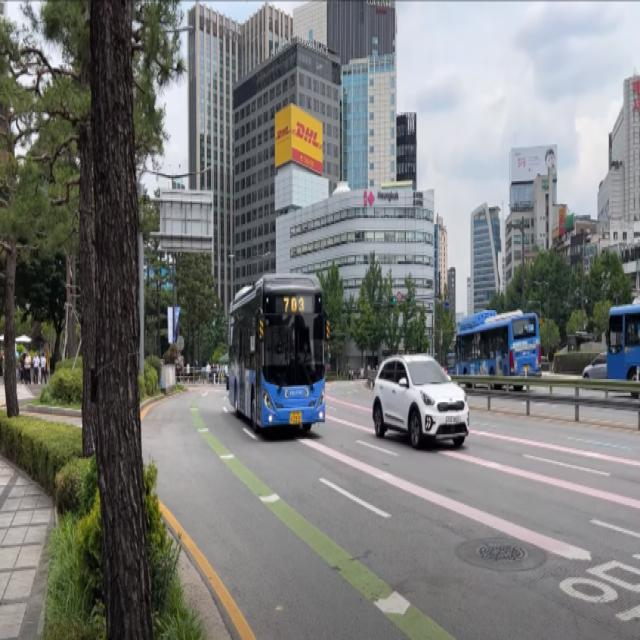bus-number: (282, 294, 306, 314)
